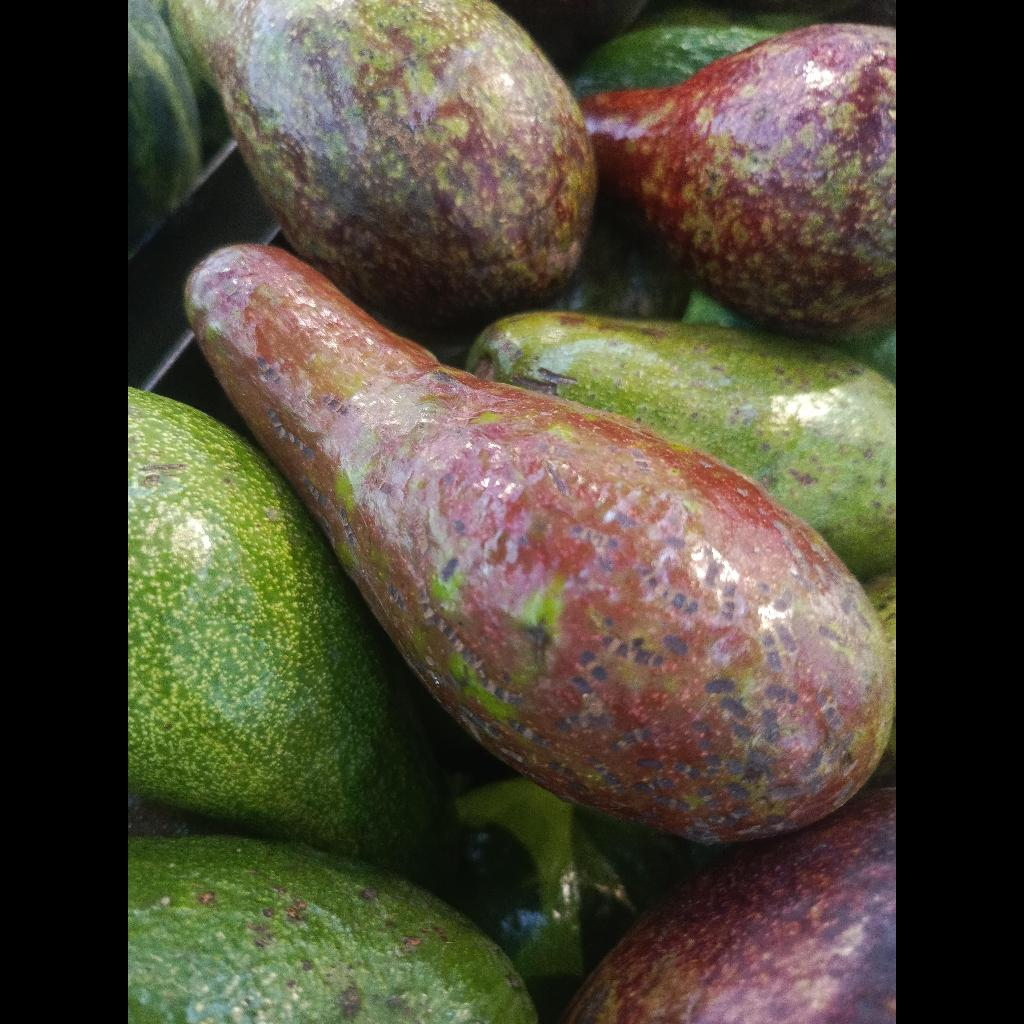healthy: (128, 389, 449, 882)
scab: (187, 246, 893, 843), (170, 0, 597, 325), (581, 24, 896, 339)
